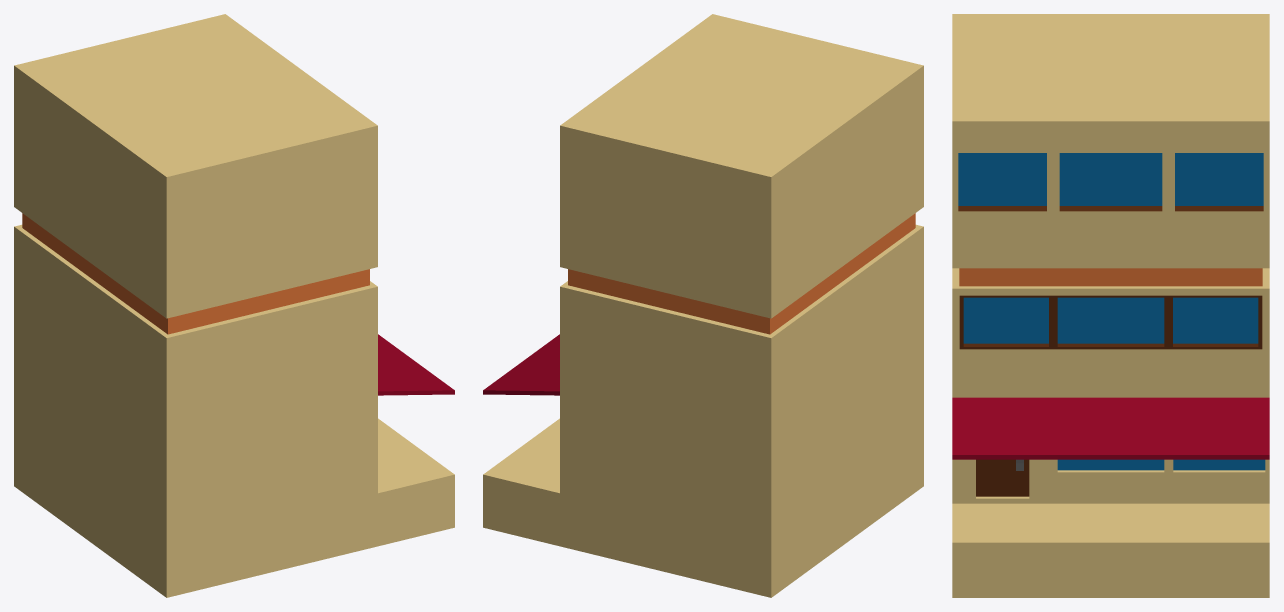
Rendered from Quickhouse.fbx.
3 renders of one model, left to right at view 1: azimuth 30°, elevation 25°; view 2: azimuth 150°, elevation 25°; view 3: azimuth 270°, elevation 25°, orthographic. The views are drawn at different scales.
Parts seen in each view (by area): view 1: Cube; view 2: Cube; view 3: Cube.
Boxes of the visible parts, left/top/right/bottom form: Cube: left=14, top=14, right=454, bottom=597; Cube: left=483, top=14, right=923, bottom=597; Cube: left=952, top=14, right=1269, bottom=597.
Bounding box in the file's own units: 1091 × 1522 × 1000.
